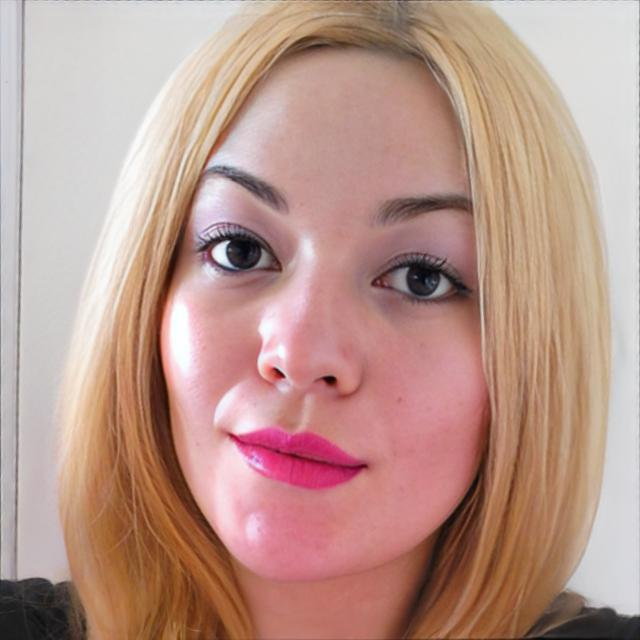happy: (160, 41, 494, 582)
